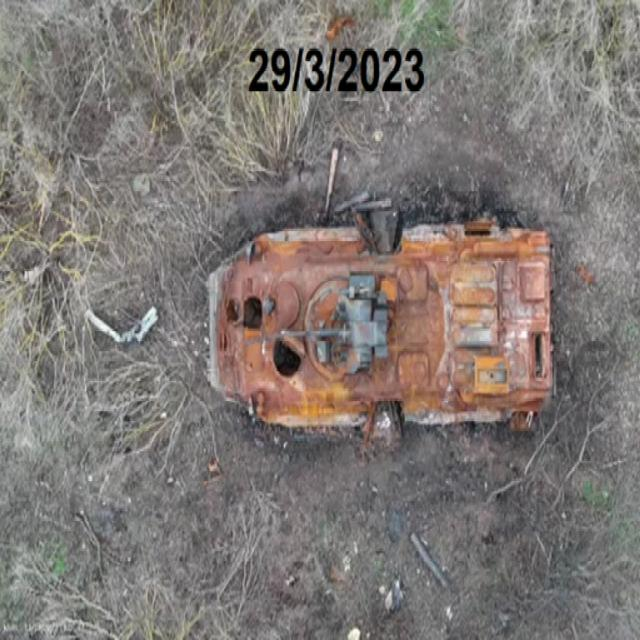APC-IFV: (184, 187, 560, 456)
